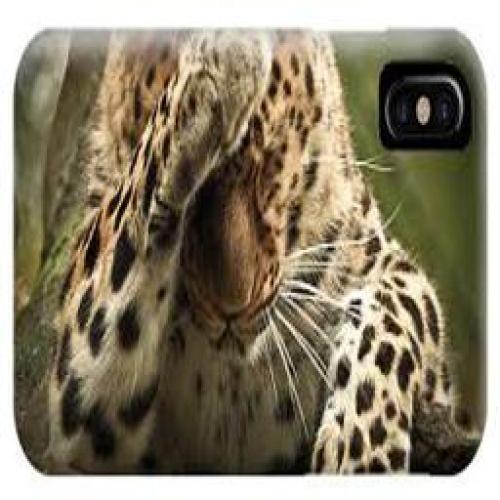amur_leopard-endangered: (48, 40, 370, 462)
